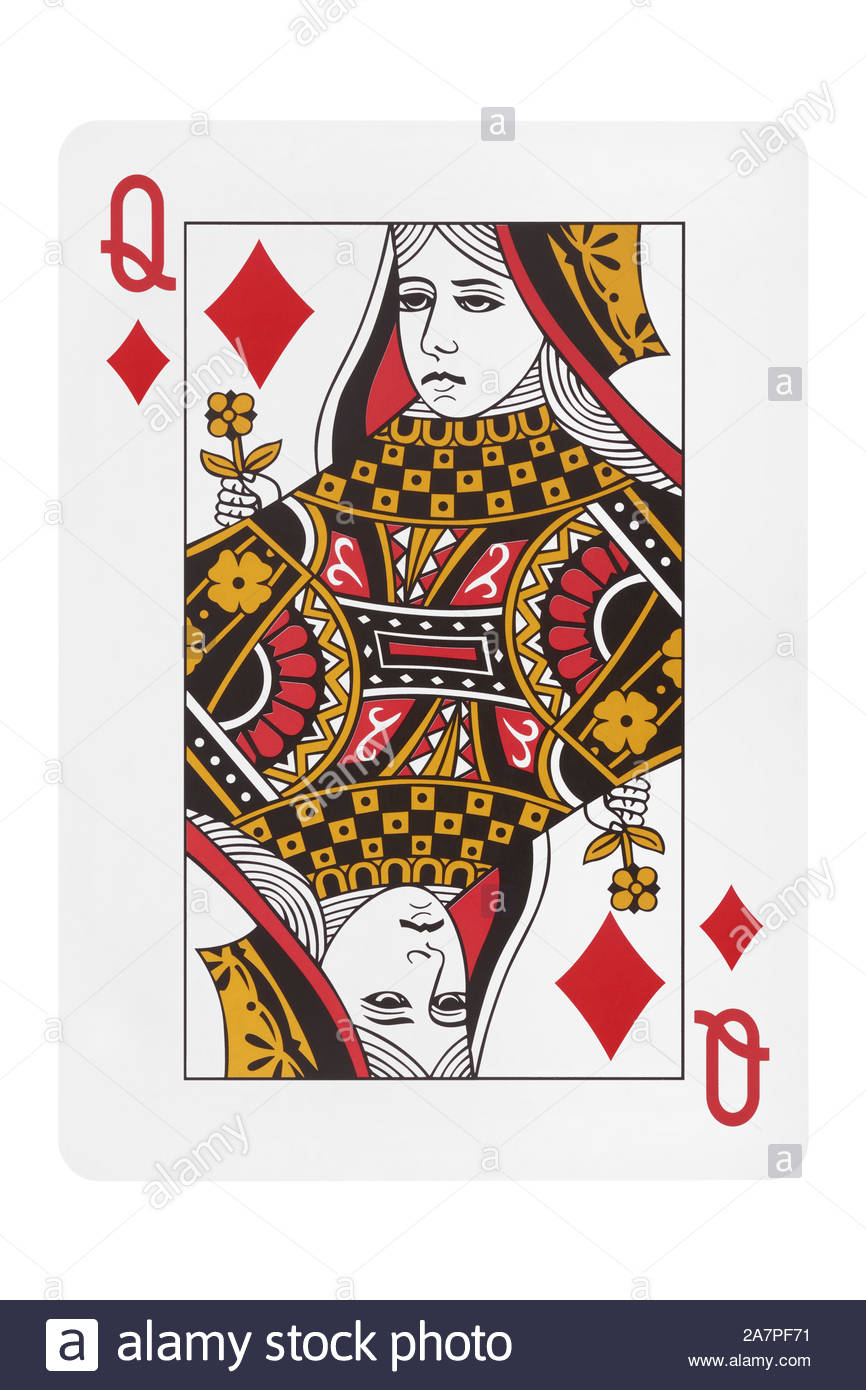queen of diamonds: (62, 126, 801, 1174)
